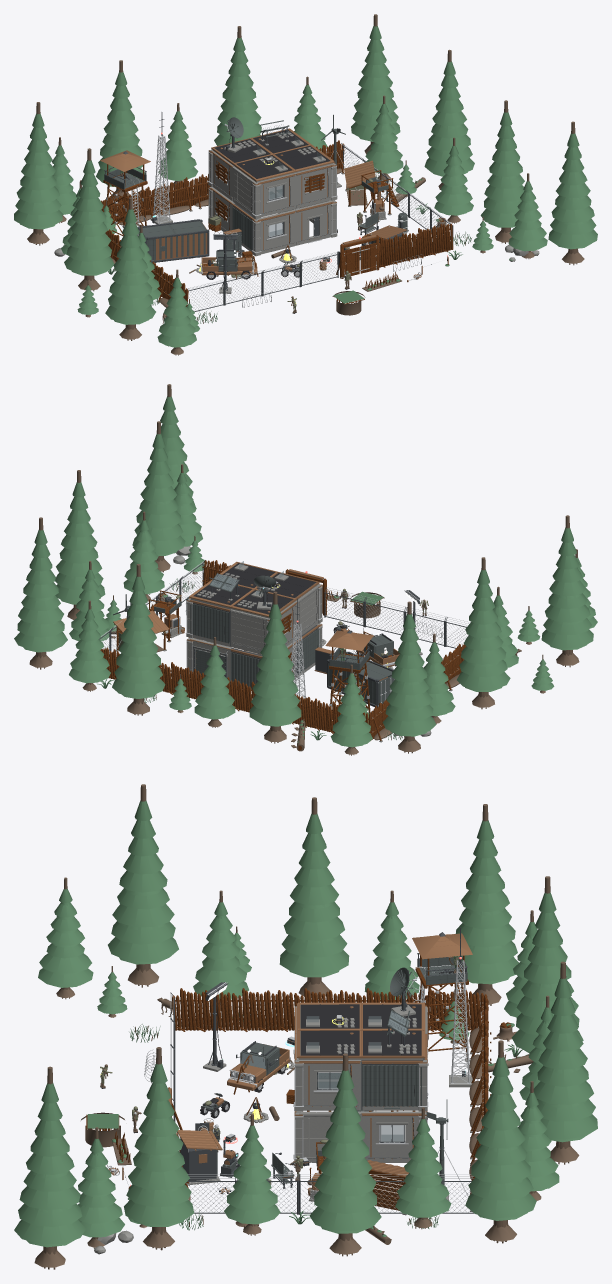
File: fortified_outpost.glb
The picture shows the model from 3 angles, top to bottom: view 1: azimuth 30°, elevation 25°; view 2: azimuth 150°, elevation 25°; view 3: azimuth 270°, elevation 25°; orthographic projection. The views are drawn at different scales.
Visible parts, largest first — view 1: 106-conifer-tall/1, 105-conifer-tall/1, 107-conifer-tall/1, 104-conifer-tall/1, 099-conifer-tall/1, 100-conifer-tall/1, 101-conifer-tall/1, 102-conifer-tall/1, 103-conifer-tall/1, 108-conifer-mid/1, 116-conifer-mid/1, 115-conifer-mid/1 (+33 smaller); view 2: 104-conifer-tall/1, 103-conifer-tall/1, 101-conifer-tall/1, 102-conifer-tall/1, 105-conifer-tall/1, 106-conifer-tall/1, 099-conifer-tall/1, 100-conifer-tall/1, 110-conifer-mid/1, 111-conifer-mid/1, 112-conifer-mid/1, 108-conifer-mid/1 (+24 smaller); view 3: 107-conifer-tall/1, 101-conifer-tall/1, 100-conifer-tall/1, 105-conifer-tall/1, 106-conifer-tall/1, 099-conifer-tall/1, 102-conifer-tall/1, 104-conifer-tall/1, 103-conifer-tall/1, 116-conifer-mid/1, 108-conifer-mid/1, 109-conifer-mid/1 (+27 smaller).
Part boxes in pixels (x1,y1,x2,y2): 106-conifer-tall/1: (105,209,155,324); 105-conifer-tall/1: (64,160,114,275); 107-conifer-tall/1: (548,133,597,249); 104-conifer-tall/1: (14,113,62,229); 099-conifer-tall/1: (480,112,524,227); 100-conifer-tall/1: (424,61,474,176); 101-conifer-tall/1: (351,26,400,141); 102-conifer-tall/1: (214,37,261,145); 103-conifer-tall/1: (96,72,145,186); 108-conifer-mid/1: (434,145,473,215); 116-conifer-mid/1: (157,277,196,347); 115-conifer-mid/1: (508,181,547,250); 104-conifer-tall/1: (382,614,436,736); 103-conifer-tall/1: (249,604,301,726); 101-conifer-tall/1: (14,530,67,652); 102-conifer-tall/1: (112,576,165,698); 105-conifer-tall/1: (457,569,510,691); 106-conifer-tall/1: (541,527,593,650); 099-conifer-tall/1: (132,433,185,555); 100-conifer-tall/1: (55,482,105,604); 110-conifer-mid/1: (69,609,110,683); 111-conifer-mid/1: (194,645,235,719); 112-conifer-mid/1: (330,673,372,747); 108-conifer-mid/1: (123,520,164,594); 107-conifer-tall/1: (14,1083,85,1247); 101-conifer-tall/1: (465,1057,536,1220); 100-conifer-tall/1: (309,1070,381,1233); 105-conifer-tall/1: (279,813,349,977); 106-conifer-tall/1: (108,800,178,964); 099-conifer-tall/1: (124,1063,193,1226); 102-conifer-tall/1: (534,978,597,1142); 104-conifer-tall/1: (451,820,518,984); 103-conifer-tall/1: (511,892,583,1053); 116-conifer-mid/1: (38,889,93,987); 108-conifer-mid/1: (224,1125,280,1224); 109-conifer-mid/1: (395,1119,451,1217).
Bounding box in the file's own units: 47.55 × 15.19 × 37.56.
16 materials, 3 textured.
